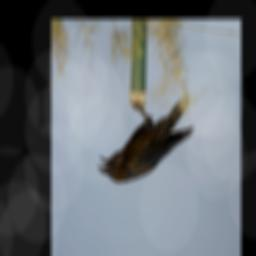Crow: (96, 95, 197, 187)
